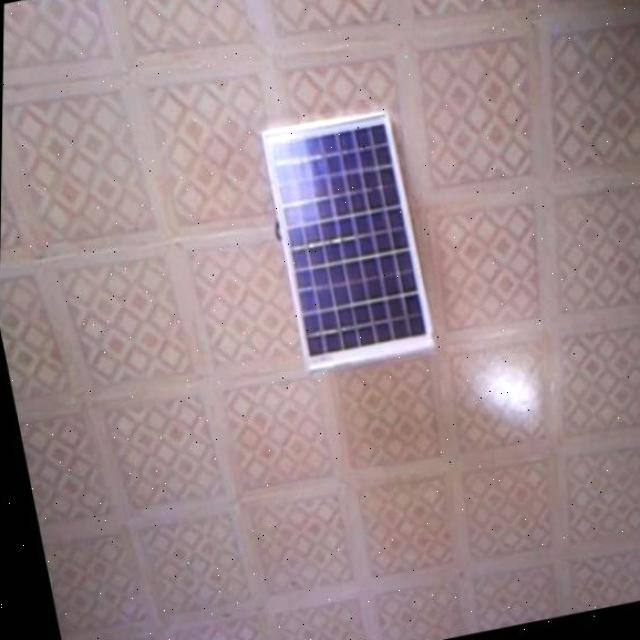Normal Solar Panel: (254, 105, 436, 373)
